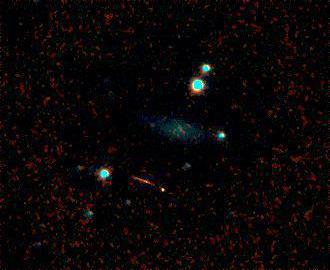star: (133, 113, 163, 143)
